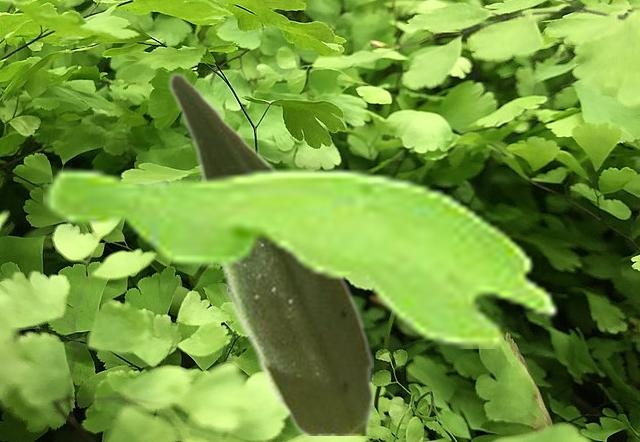okra: (167, 70, 372, 434)
